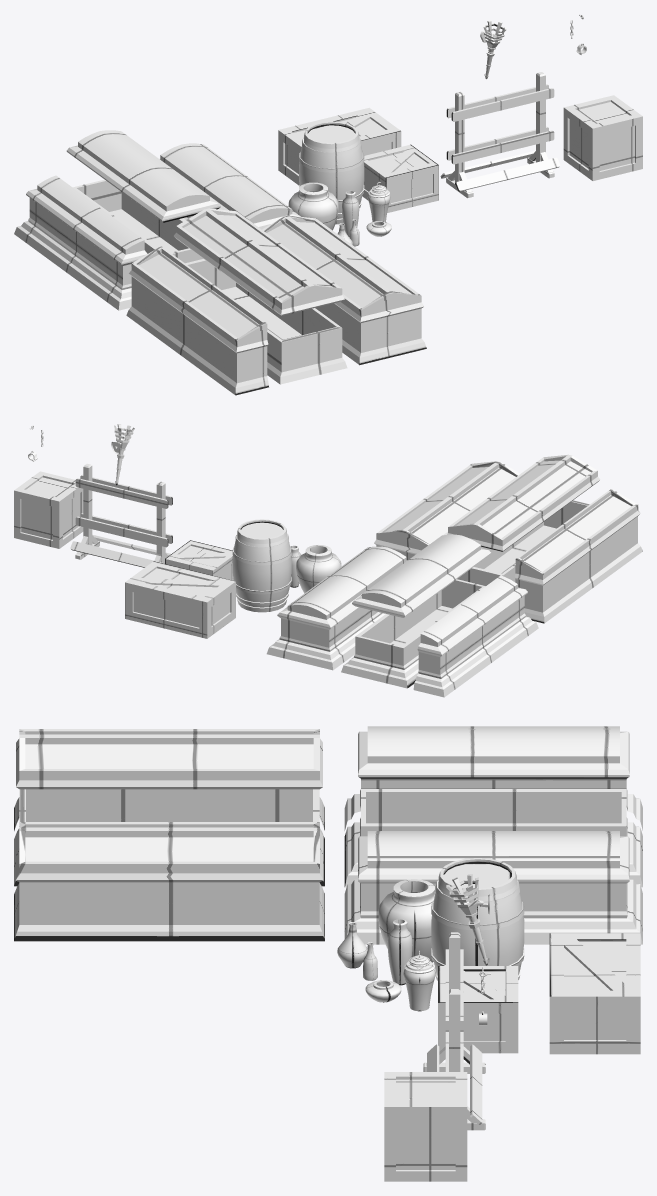
File: Assets.FBX
3 views of the same model, one above another, from view 1: azimuth 30°, elevation 25°; view 2: azimuth 150°, elevation 25°; view 3: azimuth 270°, elevation 25° (orthographic). The views are drawn at different scales.
Visible parts, largest first — view 1: Box005, Assets 01 Torch, Box008, Box003, Box004, Box007, Box001, Barrel, BoxSmall, BoxLarge, Object002, Object001 (+1 smaller); view 2: Box004, Assets 01 Torch, Box008, Box005, Box001, Box007, BoxLarge, Box003, Barrel, BoxSmall, Object002; view 3: Box003, Box005, Box004, Box001, Assets 01 Torch, BoxLarge, Barrel, BoxSmall, Box007, Object002, Object001, Object003 (+2 smaller).
Boxes of the visible parts, bbox=[...] form: Box005: bbox=[174, 208, 347, 384]; Assets 01 Torch: bbox=[440, 14, 642, 198]; Box008: bbox=[126, 246, 268, 395]; Box003: bbox=[262, 215, 426, 365]; Box004: bbox=[66, 130, 220, 263]; Box007: bbox=[14, 175, 147, 310]; Box001: bbox=[160, 143, 300, 229]; Barrel: bbox=[299, 121, 364, 224]; BoxSmall: bbox=[362, 144, 438, 212]; BoxLarge: bbox=[278, 107, 401, 185]; Object002: bbox=[288, 182, 338, 230]; Object001: bbox=[367, 182, 390, 221]; Box004: bbox=[341, 534, 491, 688]; Assets 01 Torch: bbox=[14, 424, 172, 567]; Box008: bbox=[514, 489, 642, 623]; Box005: bbox=[447, 454, 600, 585]; Box001: bbox=[266, 546, 407, 670]; Box007: bbox=[413, 575, 538, 697]; BoxLarge: bbox=[125, 561, 235, 638]; Box003: bbox=[374, 461, 520, 560]; Barrel: bbox=[232, 519, 291, 612]; BoxSmall: bbox=[165, 540, 232, 580]; Object002: bbox=[296, 545, 341, 593]; Box003: bbox=[14, 822, 324, 941]; Box005: bbox=[14, 729, 324, 886]; Box004: bbox=[344, 726, 642, 887]; Box001: bbox=[344, 831, 642, 944]; Assets 01 Torch: bbox=[384, 874, 490, 1181]; BoxLarge: bbox=[549, 933, 640, 1054]; Barrel: bbox=[431, 858, 524, 980]; BoxSmall: bbox=[438, 966, 518, 1053]; Box007: bbox=[344, 778, 642, 830]; Object002: bbox=[378, 879, 435, 962]; Object001: bbox=[403, 950, 435, 1011]; Object003: bbox=[387, 919, 412, 985].
Bounding box in the file's own units: 767 × 210 × 545.
